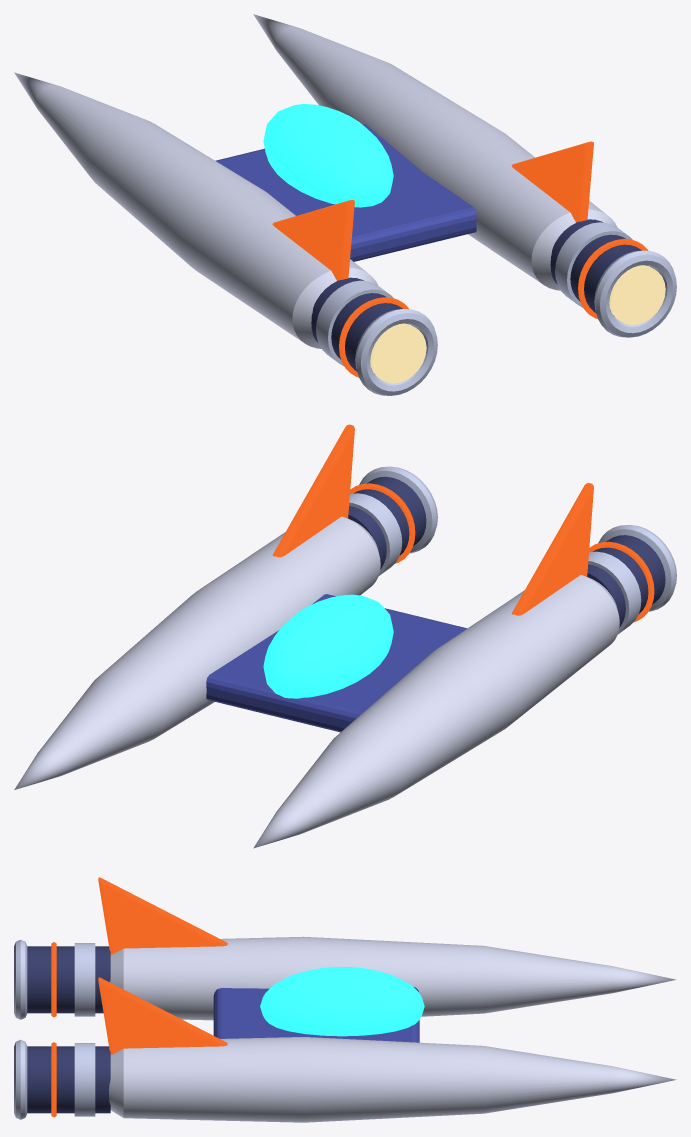
Rendered from gemini.glb.
The picture shows the model from 3 angles, top to bottom: view 1: azimuth 30°, elevation 25°; view 2: azimuth 150°, elevation 25°; view 3: azimuth 270°, elevation 25°; orthographic projection. The views are drawn at different scales.
Parts seen in each view (by area): view 1: fus, fus.001, bridge, Sphere, fin, fin.001, Torus.030, Torus.028, Cylinder.002, Cylinder.005, Cylinder, Cylinder.003 (+4 smaller); view 2: fus, fus.001, bridge, Sphere, fin, fin.001, Cylinder, Cylinder.003, Cylinder.001, Cylinder.004, Torus.030, Torus.028 (+2 smaller); view 3: fus.001, fus, Sphere, fin, fin.001, Cylinder.003, Cylinder, bridge, Cylinder.001, Cylinder.004, Torus.028, Torus.030 (+2 smaller).
Boxes of the visible parts, x1,y1,x2,y2 form: fus: (14,72,378,348); fus.001: (253,14,617,290); bridge: (215,124,476,261); Sphere: (263,104,393,207); fin: (272,200,354,280); fin.001: (511,141,593,222); Torus.030: (594,250,676,337); Torus.028: (355,309,437,395); Cylinder.002: (370,323,426,383); Cylinder.005: (609,265,665,325); Cylinder: (311,277,411,373); Cylinder.003: (550,219,646,316); fus: (253,575,619,848); fus.001: (14,516,380,789); bridge: (206,594,466,732); Sphere: (263,594,393,698); fin: (511,483,593,615); fin.001: (272,424,354,557); Cylinder: (587,535,665,627); Cylinder.003: (348,476,426,568); Cylinder.001: (588,551,641,634); Cylinder.004: (349,493,402,575); Torus.030: (359,466,437,553); Torus.028: (598,525,676,611); fus.001: (109,1037,676,1122); fus: (110,936,676,1020); Sphere: (260,967,424,1036); fin: (98,877,227,954); fin.001: (98,977,227,1054); Cylinder.003: (27,1046,110,1113); Cylinder: (27,946,110,1013); bridge: (213,987,419,1042); Cylinder.001: (74,943,95,1016); Cylinder.004: (74,1043,95,1116); Torus.028: (14,939,27,1019); Torus.030: (14,1039,27,1119).
Bounding box in the file's own units: 1.3 × 0.5973 × 2.58.
